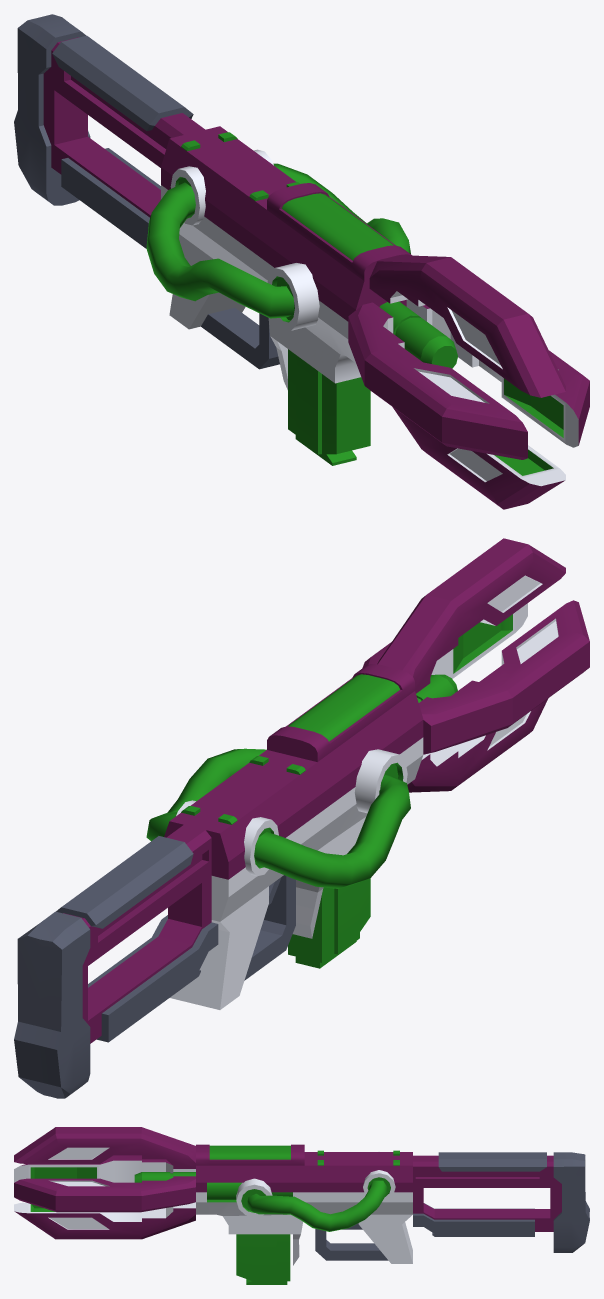
Rendered from Laser_Gun_Version_2.fbx.
The picture shows the model from 3 angles, top to bottom: view 1: azimuth 30°, elevation 25°; view 2: azimuth 150°, elevation 25°; view 3: azimuth 270°, elevation 25°; orthographic projection. The views are drawn at different scales.
Parts seen in each view (by area): view 1: jaw_prometheus (×4), stock_guardian_long, mediumBlaster_handleGuard, detail_pipe_side_big (×2), mediumBlaster_magwell_viper, magazine_viper, detail_top_carmine_center_detail_b, barrel_back_marksman; view 2: stock_guardian_long, jaw_prometheus (×4), mediumBlaster_handleGuard, detail_pipe_side_big (×2), mediumBlaster_magwell_viper, detail_top_carmine_center_detail_b, magazine_viper, barrel_back_marksman; view 3: jaw_prometheus (×4), stock_guardian_long, mediumBlaster_handleGuard, mediumBlaster_magwell_viper, detail_pipe_side_big, magazine_viper, detail_top_carmine_center_detail_b, barrel_back_marksman.
Part boxes in pixels (x1=…): jaw_prometheus (×4): x1=348, y1=255, x2=589, y2=509; stock_guardian_long: x1=14, y1=14, x2=204, y2=248; mediumBlaster_handleGuard: x1=161, y1=126, x2=296, y2=369; detail_pipe_side_big (×2): x1=146, y1=149, x2=410, y2=330; mediumBlaster_magwell_viper: x1=258, y1=210, x2=406, y2=389; magazine_viper: x1=288, y1=349, x2=370, y2=465; detail_top_carmine_center_detail_b: x1=267, y1=183, x2=412, y2=280; barrel_back_marksman: x1=379, y1=301, x2=457, y2=368; stock_guardian_long: x1=14, y1=825, x2=218, y2=1098; jaw_prometheus (×4): x1=362, y1=538, x2=589, y2=792; mediumBlaster_handleGuard: x1=164, y1=750, x2=325, y2=1009; detail_pipe_side_big (×2): x1=146, y1=748, x2=410, y2=888; mediumBlaster_magwell_viper: x1=293, y1=691, x2=423, y2=938; detail_top_carmine_center_detail_b: x1=267, y1=664, x2=414, y2=761; magazine_viper: x1=288, y1=878, x2=370, y2=968; barrel_back_marksman: x1=416, y1=674, x2=457, y2=702; jaw_prometheus (×4): x1=14, y1=1127, x2=195, y2=1239; stock_guardian_long: x1=413, y1=1152, x2=589, y2=1252; mediumBlaster_handleGuard: x1=304, y1=1152, x2=412, y2=1263; mediumBlaster_magwell_viper: x1=196, y1=1165, x2=304, y2=1265; detail_pipe_side_big: x1=236, y1=1170, x2=395, y2=1231; magazine_viper: x1=236, y1=1234, x2=290, y2=1284; detail_top_carmine_center_detail_b: x1=196, y1=1144, x2=304, y2=1165; barrel_back_marksman: x1=134, y1=1172, x2=195, y2=1182.
Bounding box in the file's own units: 12.15 × 15.39 × 53.13.
